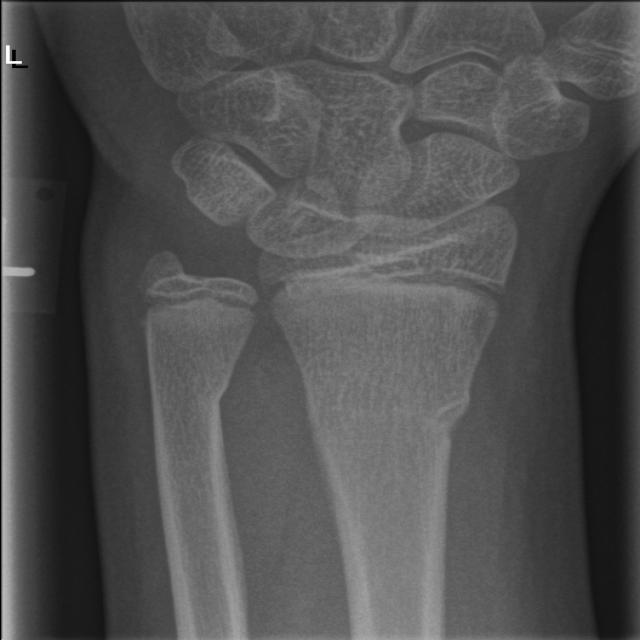radius fracture: (286, 359, 542, 471)
ulna fracture: (165, 357, 265, 509)
